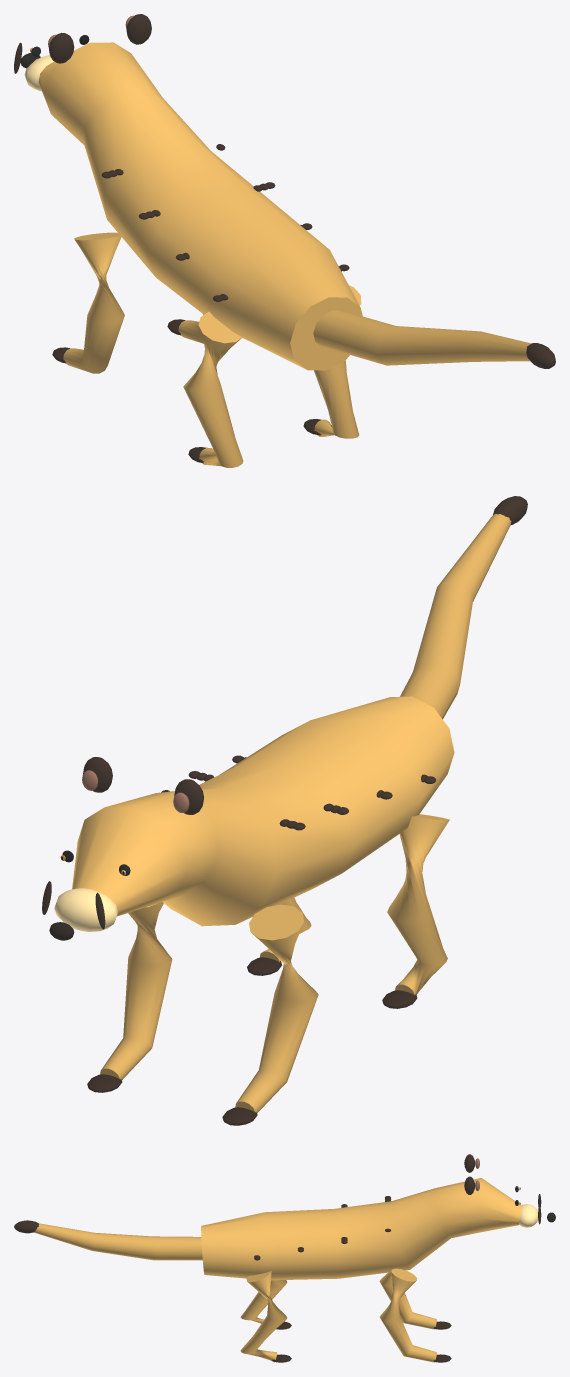
Rendered from cheetah_hero.glb.
The picture shows the model from 3 angles, top to bottom: view 1: azimuth 30°, elevation 25°; view 2: azimuth 150°, elevation 25°; view 3: azimuth 270°, elevation 25°; orthographic projection. The views are drawn at different scales.
Visible parts, largest first — view 1: CheetahOrganicBody, Tail, Leg_LH, Leg_LF, Leg_RH, RoundEar2, RoundEar, TailTipDetail; view 2: CheetahOrganicBody, Tail, Leg_LF, Leg_RF, Leg_LH, Muzzle; view 3: CheetahOrganicBody, Tail, Leg_RF, Leg_RH, Leg_LF, Leg_LH, Muzzle.
Boxes of the visible parts, <box> form: CheetahOrganicBody: <box>38,42,362,370</box>; Tail: <box>313,310,531,365</box>; Leg_LH: <box>183,311,243,467</box>; Leg_LF: <box>63,232,124,373</box>; Leg_RH: <box>314,285,361,438</box>; RoundEar2: <box>126,14,151,44</box>; RoundEar: <box>49,33,74,63</box>; TailTipDetail: <box>526,343,555,368</box>; CheetahOrganicBody: <box>72,696,454,926</box>; Tail: <box>400,514,511,719</box>; Leg_LF: <box>235,904,318,1112</box>; Leg_RF: <box>100,902,172,1079</box>; Leg_LH: <box>387,814,449,995</box>; Muzzle: <box>54,888,118,931</box>; CheetahOrganicBody: <box>201,1178,521,1280</box>; Tail: <box>34,1223,202,1260</box>; Leg_RF: <box>379,1268,436,1362</box>; Leg_RH: <box>240,1271,287,1362</box>; Leg_LF: <box>379,1272,436,1329</box>; Leg_LH: <box>240,1280,287,1323</box>; Muzzle: <box>519,1204,538,1227</box>.
Bounding box in the file's own units: 1.2 × 2.22 × 6.09.
